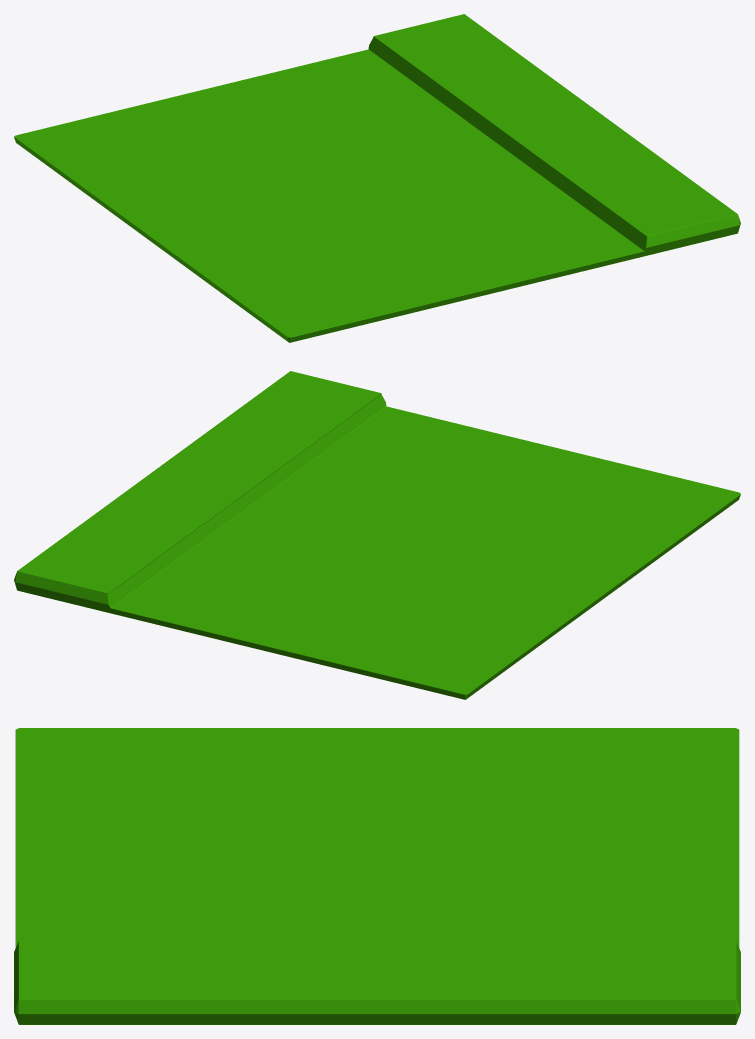
The model's file is EmergencyGrowLight.fbx.
The picture shows the model from 3 angles, top to bottom: view 1: azimuth 30°, elevation 25°; view 2: azimuth 150°, elevation 25°; view 3: azimuth 270°, elevation 25°; orthographic projection. The views are drawn at different scales.
Parts seen in each view (by area): view 1: pCube3; view 2: pCube3; view 3: pCube3.
Boxes of the visible parts, box(x1,y1,x2,y2) form: pCube3: box(14, 14, 740, 342); pCube3: box(14, 371, 740, 699); pCube3: box(14, 728, 740, 1024).
Bounding box in the file's own units: 0.6147 × 0.0255 × 0.6502.
